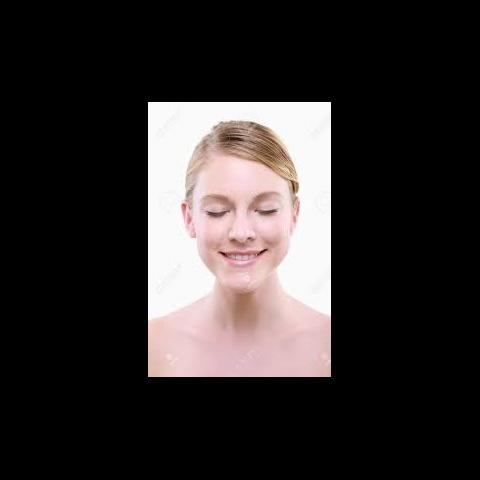closed: (195, 188, 290, 225)
